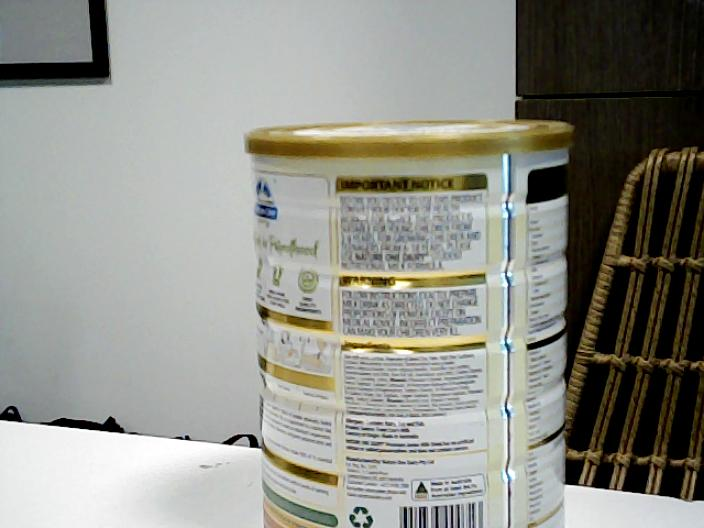Babymilk-powder_900-999g_NonHalal_NonHealthy: (242, 119, 575, 528)
